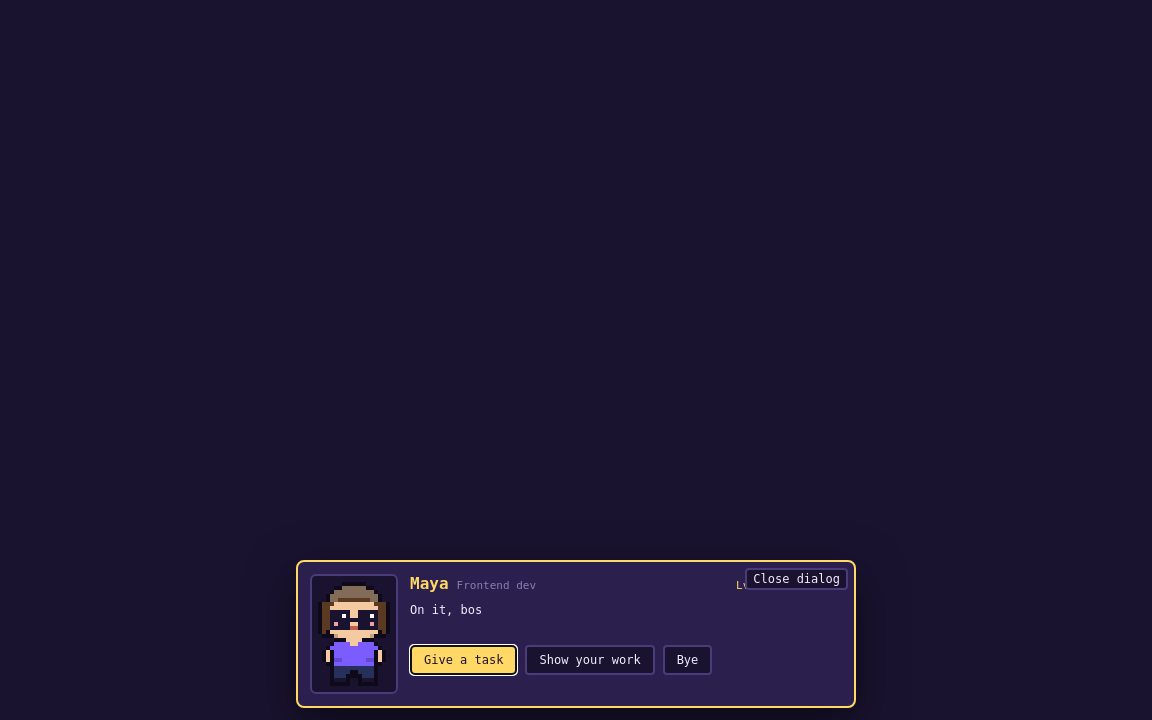
DialogBox › keeps the greeting it opened with while the run streams, and reveals it all on click
This screenshot has width=1152, height=720.
Click the text with class "dialog-box__text" at (446, 610), box [410,603,482,617]
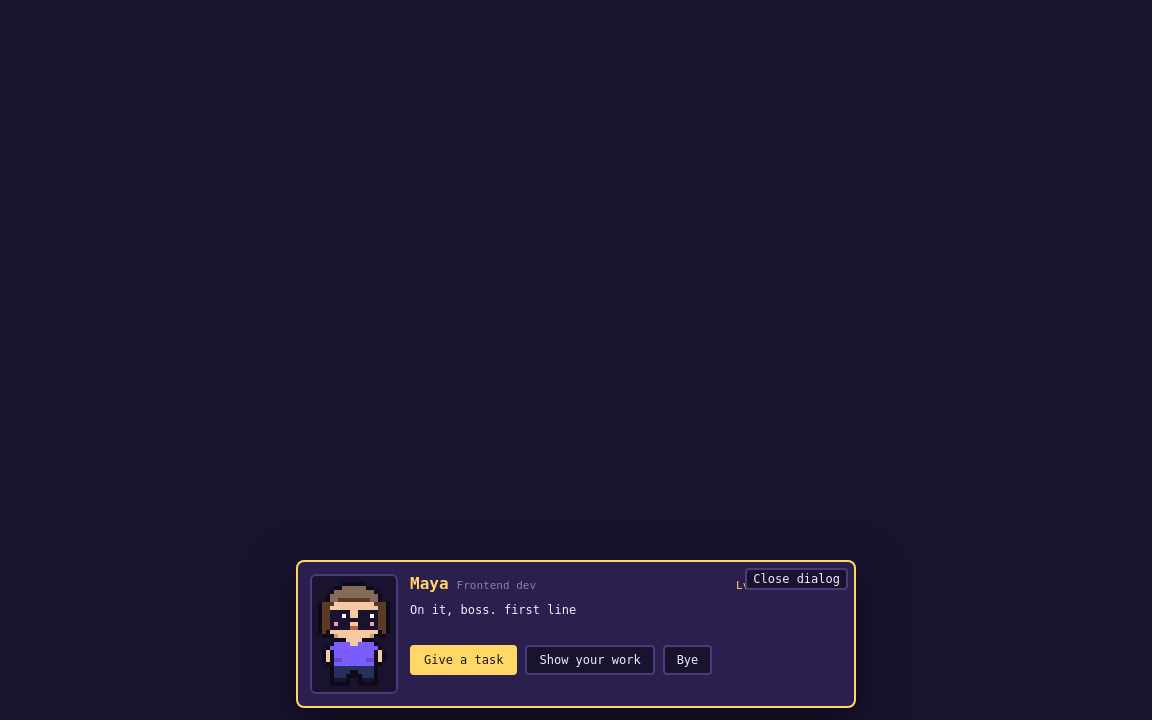
Result: the text "On it, boss. first line" is shown at [410,603,576,617]
